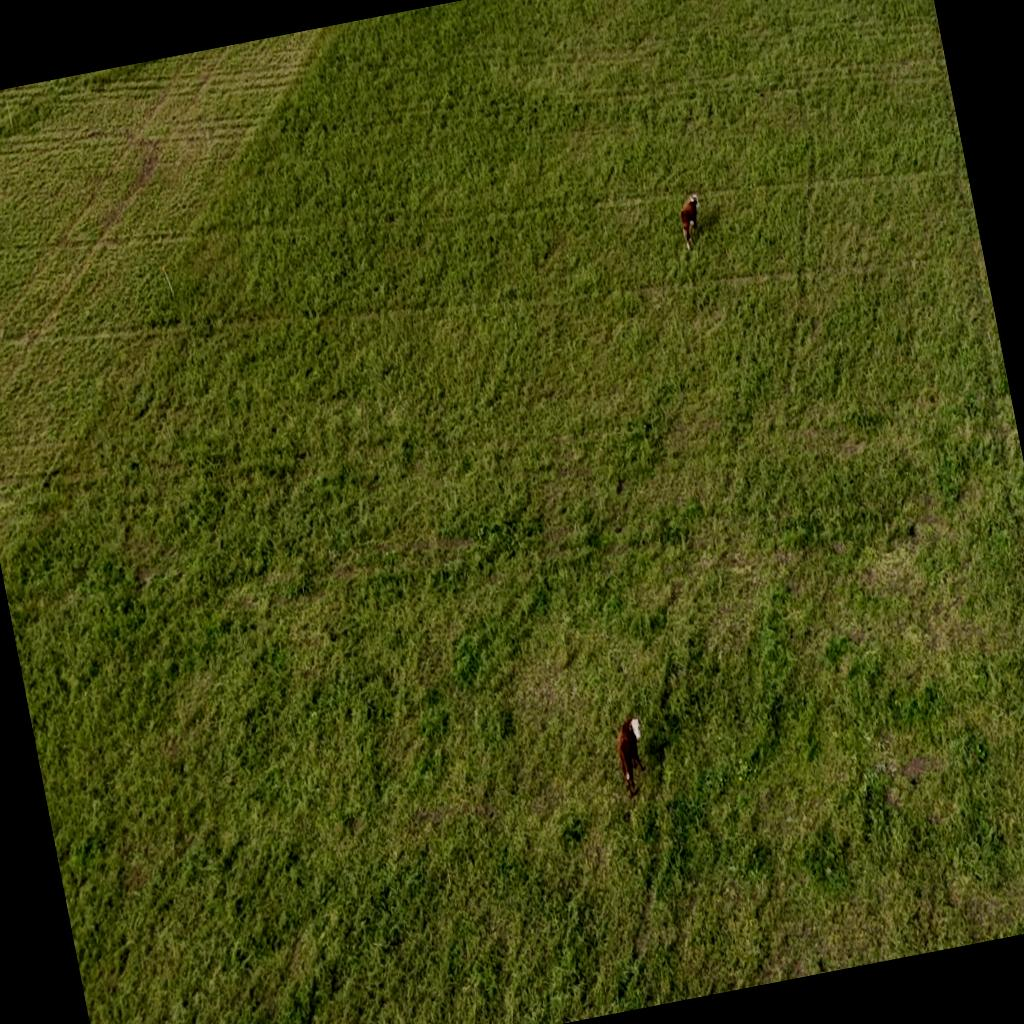cow: (608, 712, 656, 800), (674, 190, 708, 250)
